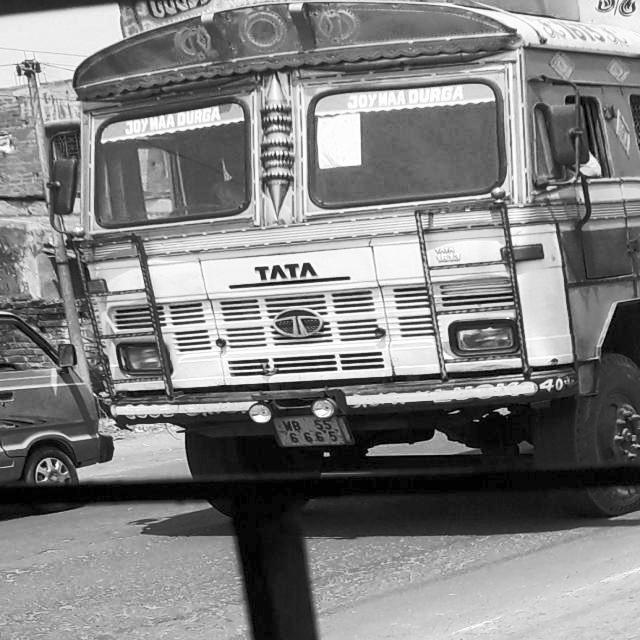HCV: (71, 6, 640, 521)
